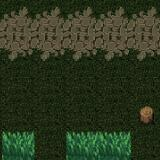Obstacle: (131, 99, 160, 132)
Slow: (66, 132, 131, 160), (2, 132, 35, 160)
